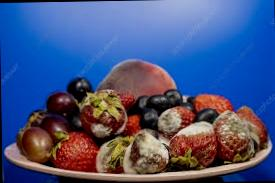Grape Rotten: (15, 73, 268, 175)
